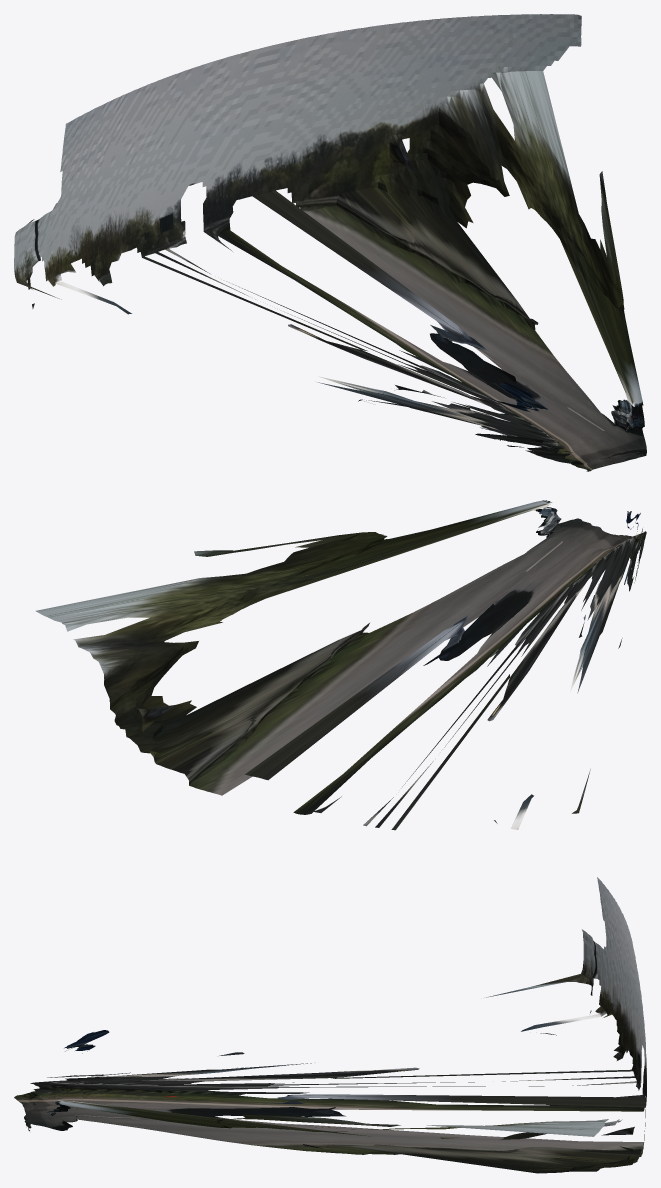
The picture shows the model from 3 angles, top to bottom: view 1: azimuth 30°, elevation 25°; view 2: azimuth 150°, elevation 25°; view 3: azimuth 270°, elevation 25°; orthographic projection. The views are drawn at different scales.
Parts seen in each view (by area): view 1: defaultobject; view 2: defaultobject; view 3: defaultobject.
Part boxes in pixels (x1,y1,x2,y2): defaultobject: (14,14,646,471); defaultobject: (36,500,646,830); defaultobject: (14,877,646,1173).
Size of the model in its own units: 40.98 by 13.08 by 44.92.
Materials: 1 (1 with a texture image).
